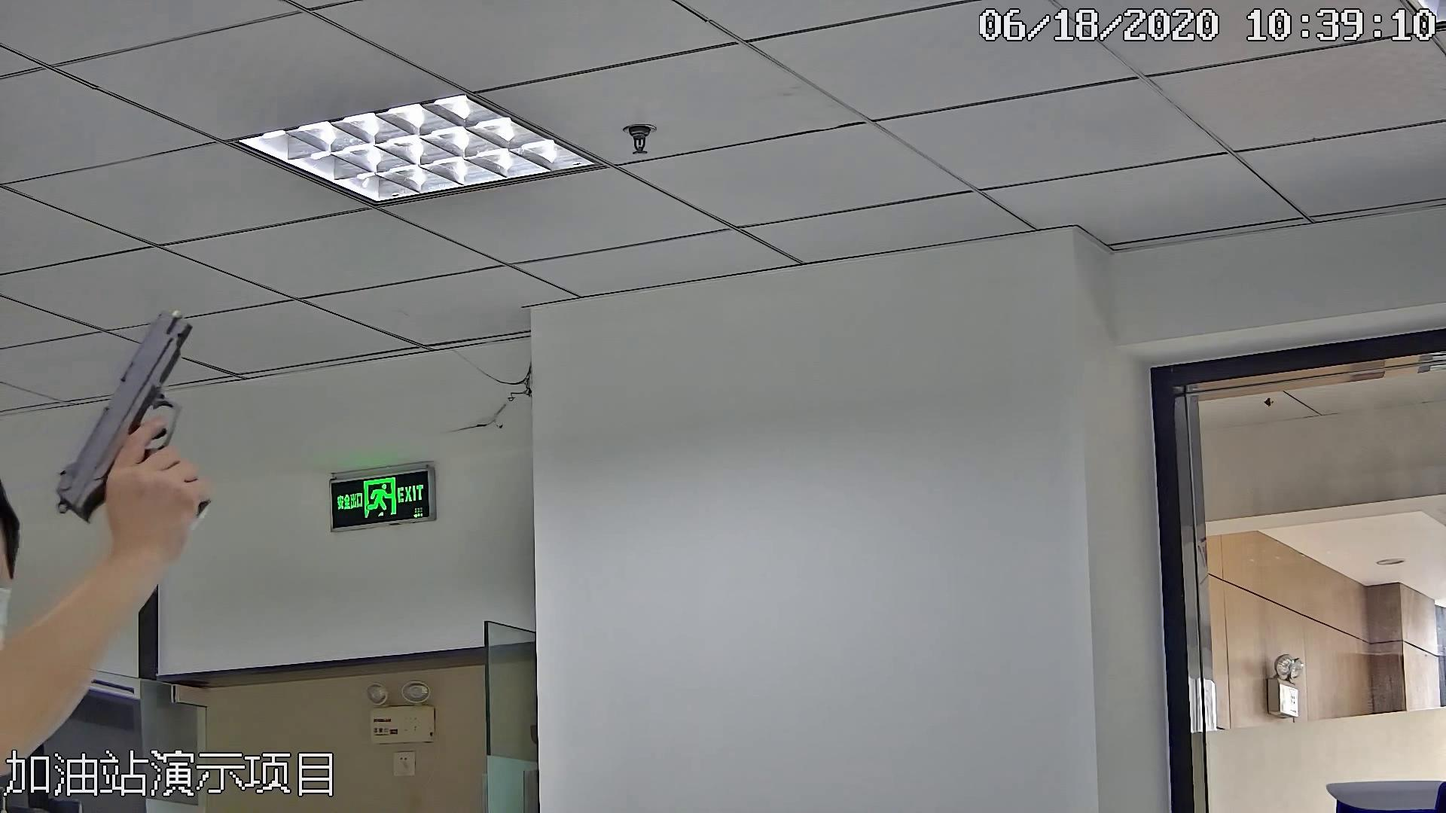gun: (45, 302, 219, 550)
